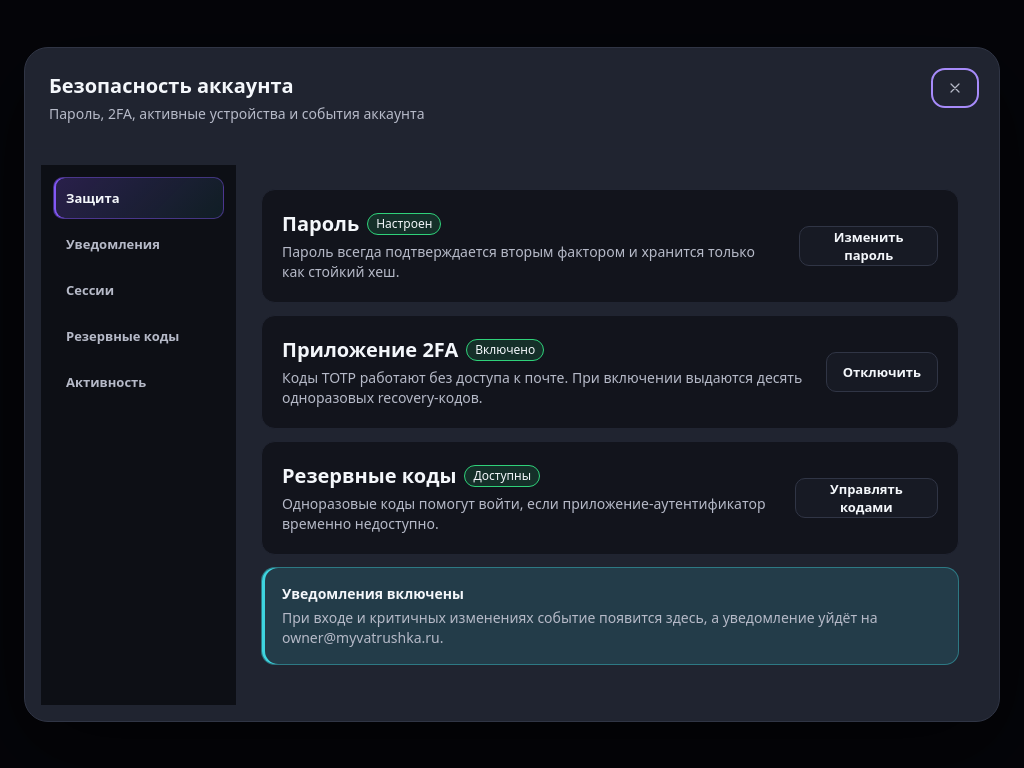
it: SecurityCenter › regenerates recovery codes only after a TOTP confirmation
The width and height of the screenshot is (1024, 768).
Click the button "Резервные коды" at (138, 336), box [53, 314, 224, 356]
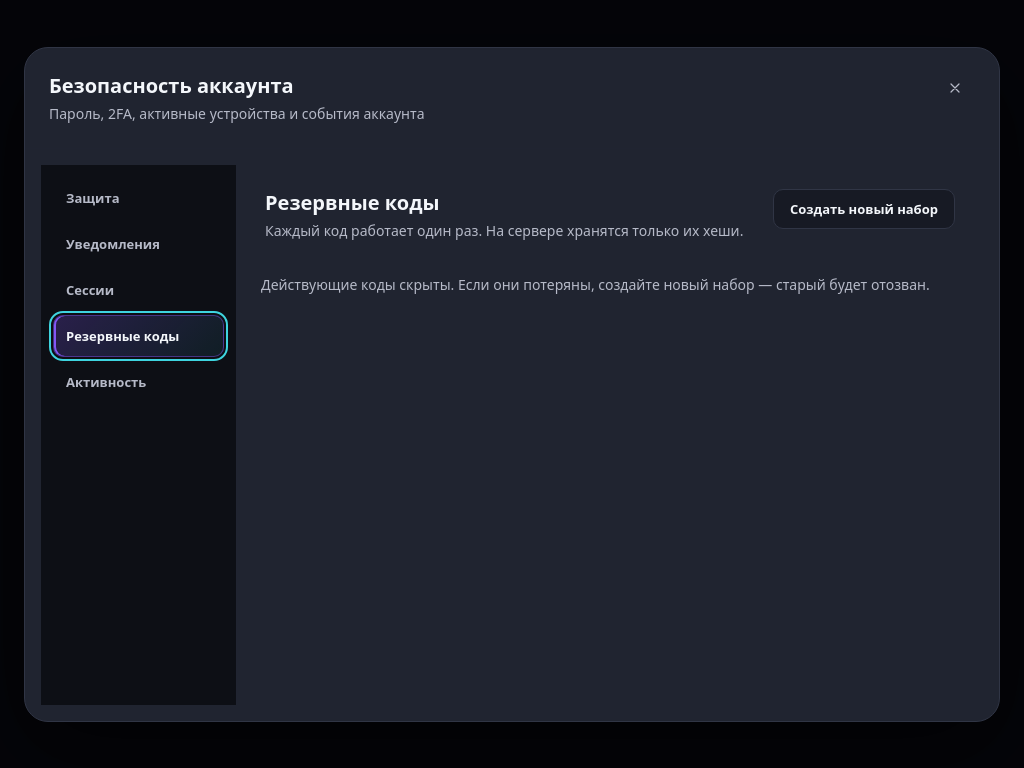
Click the button "Создать новый набор" at (864, 208), box [773, 188, 955, 228]
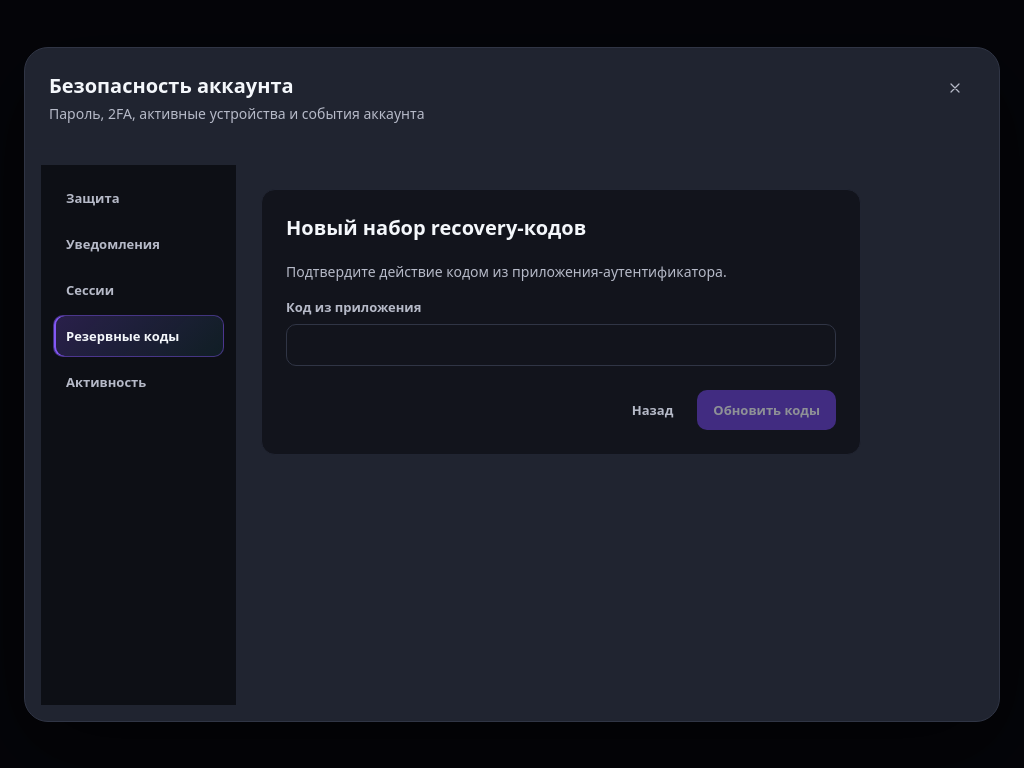
Type "123456" into the field labelled "Код из приложения" at (561, 344), box [299, 324, 823, 364]
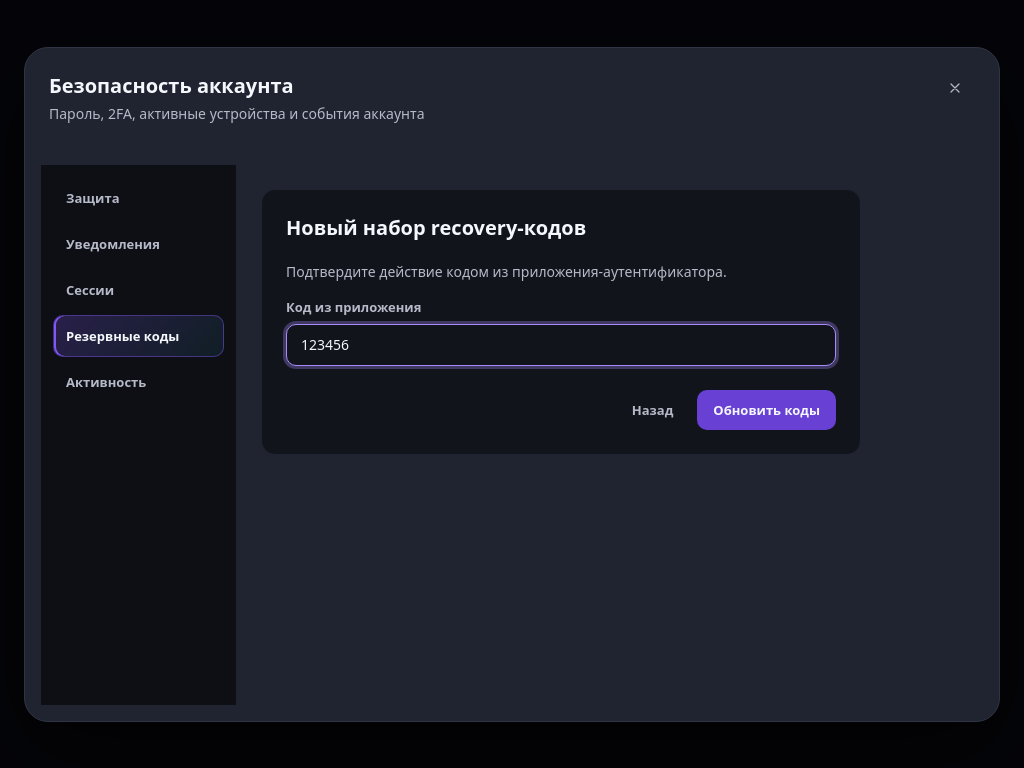
Click the button "Обновить коды" at (767, 410), box [697, 390, 836, 430]
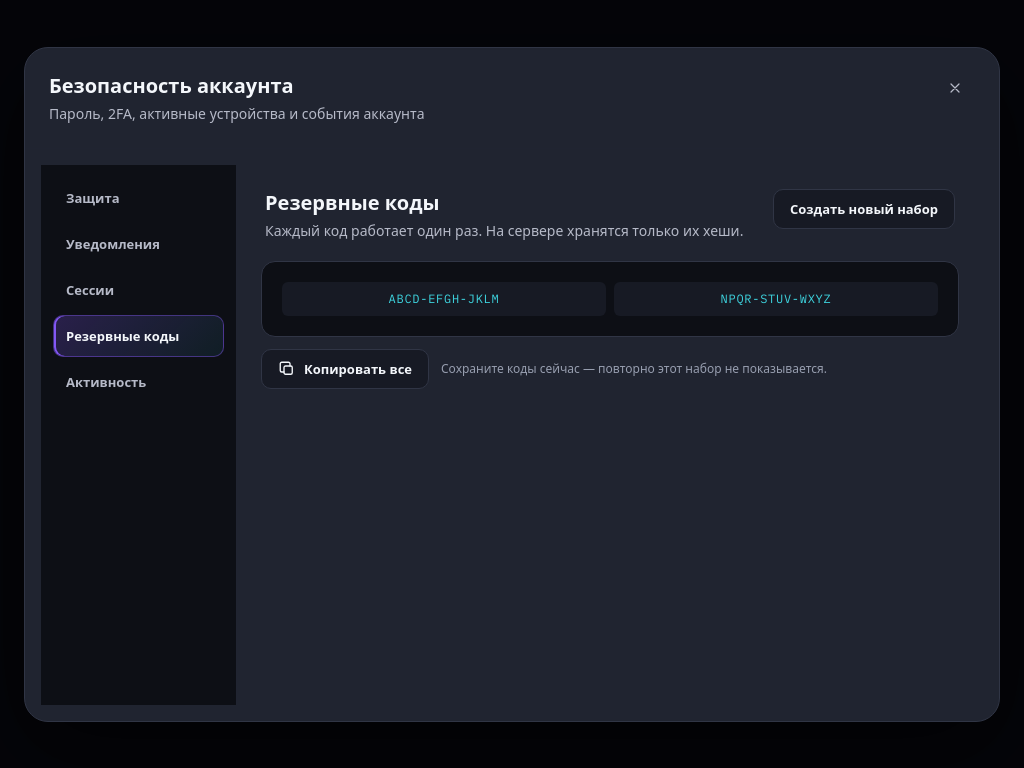
Result: the text "ABCD-EFGH-JKLM" is shown at [282, 282, 606, 316]
